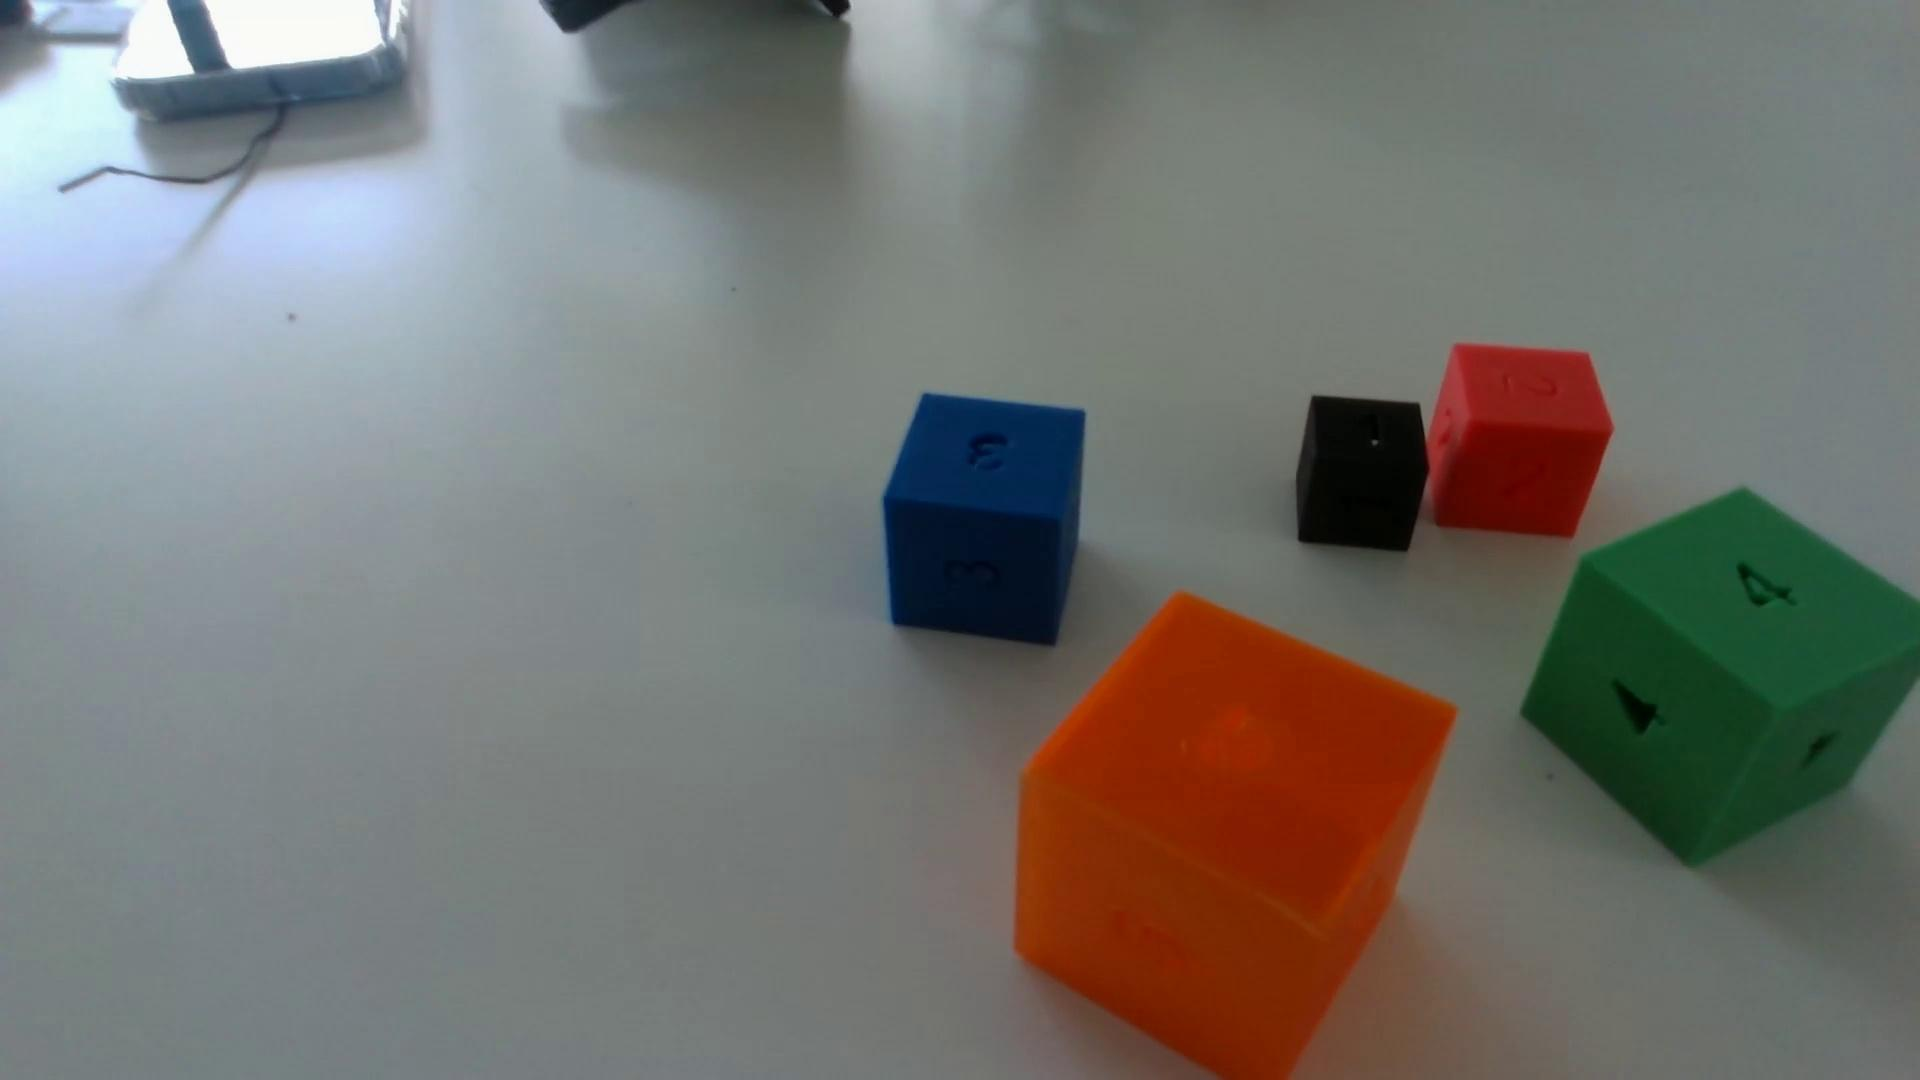black: (1295, 396, 1427, 553)
blue: (882, 394, 1087, 646)
green: (1522, 491, 1920, 866)
orange: (1014, 595, 1455, 1080)
red: (1427, 344, 1613, 539)
